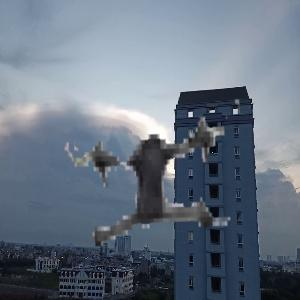drone: (53, 76, 250, 273)
